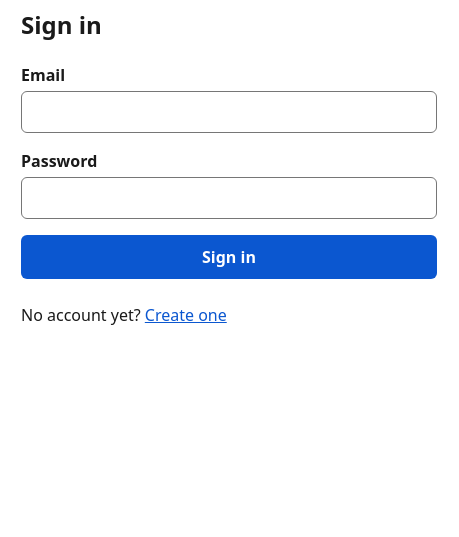
Test case: LoginPage › validation before sending › lists what is missing, focuses the summary and sends nothing
The image size is (459, 537).
What coordinates should you click on to do the following:
click the button "Sign in"
I would click on:
 (229, 257)
Its box is [21,235,437,279].
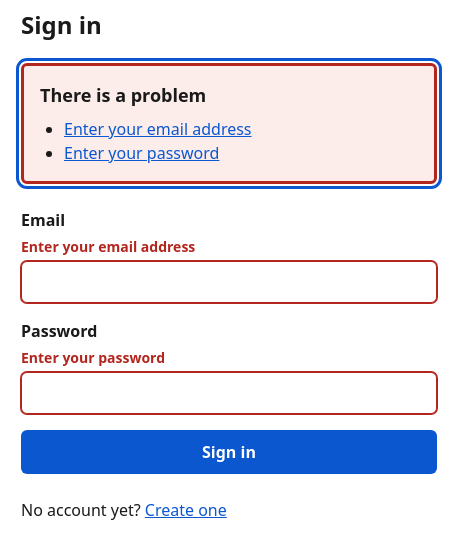
Check: the link "Enter your email address" is shown, box [64,118,252,140]
Check: the link "Enter your password" is shown, box [64,142,219,164]
